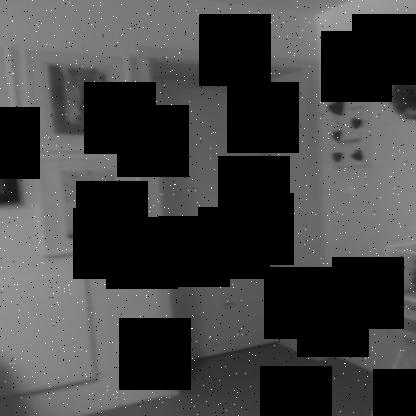Porte: (132, 46, 330, 397)
